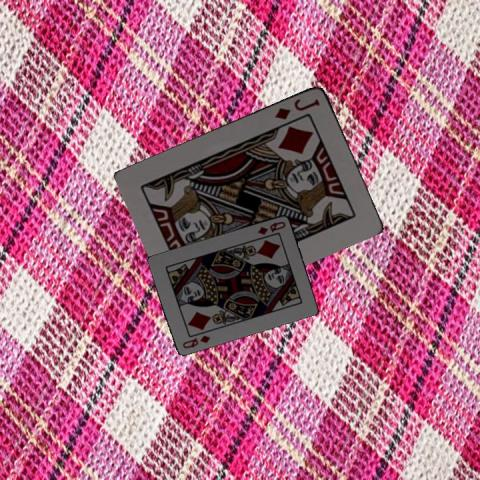Jd: (271, 95, 322, 121)
Qd: (255, 218, 287, 236), (179, 332, 212, 349)
